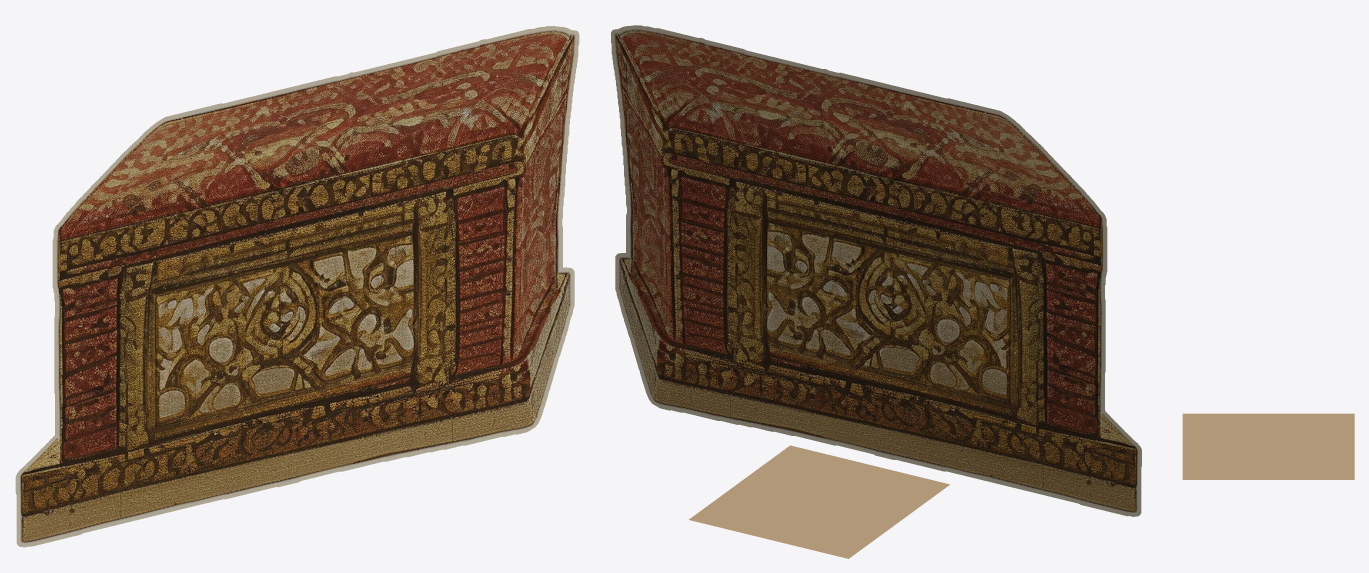
Rendered from toad-standee-footstool.glb.
3 renders of one model, left to right at view 1: azimuth 30°, elevation 25°; view 2: azimuth 150°, elevation 25°; view 3: azimuth 270°, elevation 25°, orthographic. The views are drawn at different scales.
Visible parts, largest first — view 1: footstool; view 2: footstool; view 3: footstool.
Boxes of the visible parts, x1,y1,x2,y2 form: footstool: (15,26,579,547); footstool: (611,25,1141,558); footstool: (1182,413,1354,479).
Bounding box in the file's own units: 0.1 × 0.0686 × 0.035.
Materials: 1 (1 with a texture image).
